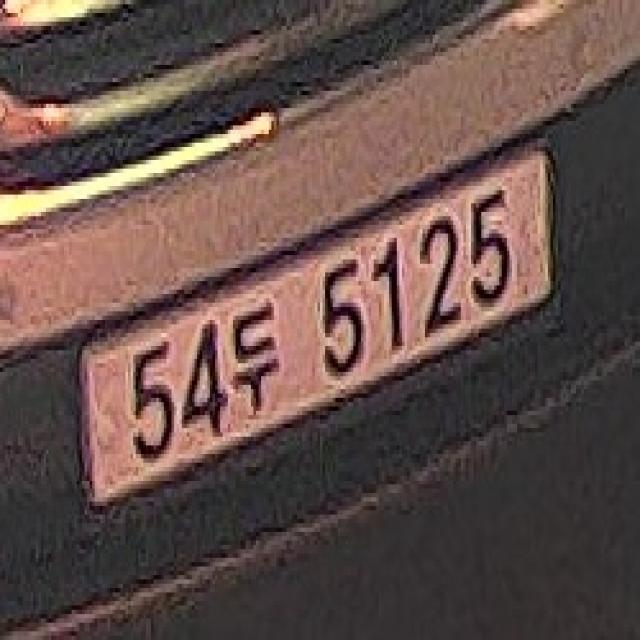1: (368, 220, 409, 380)
2: (418, 186, 463, 355)
4: (174, 307, 233, 463)
5: (307, 229, 374, 398), (123, 303, 179, 497), (463, 169, 517, 311)
du: (225, 290, 284, 428)
license_plate: (72, 113, 563, 566)
